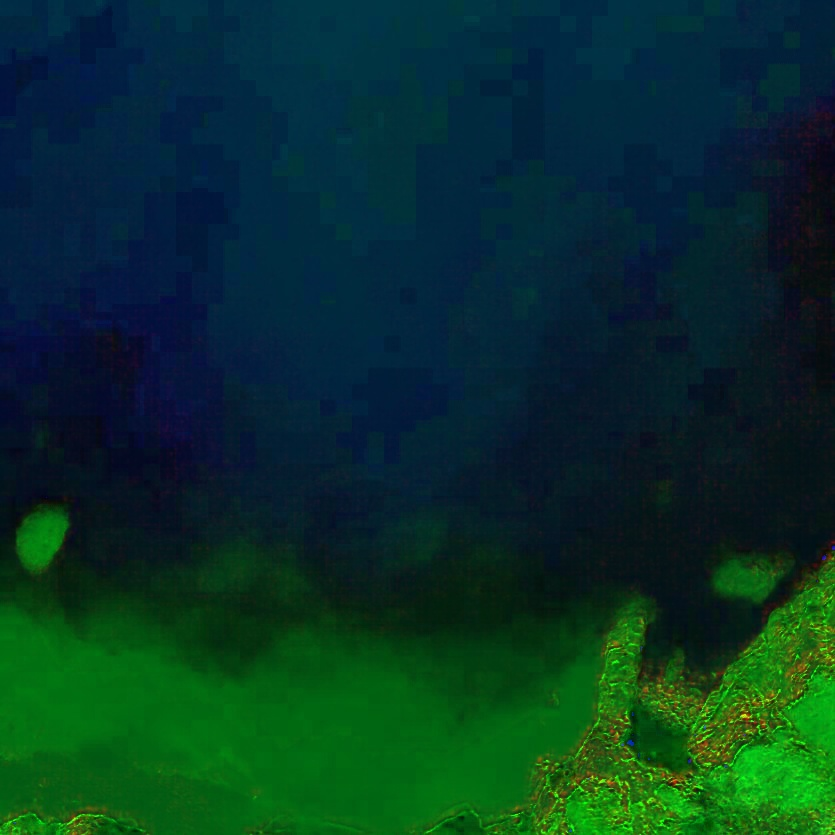rip_current: (236, 148, 525, 583)
